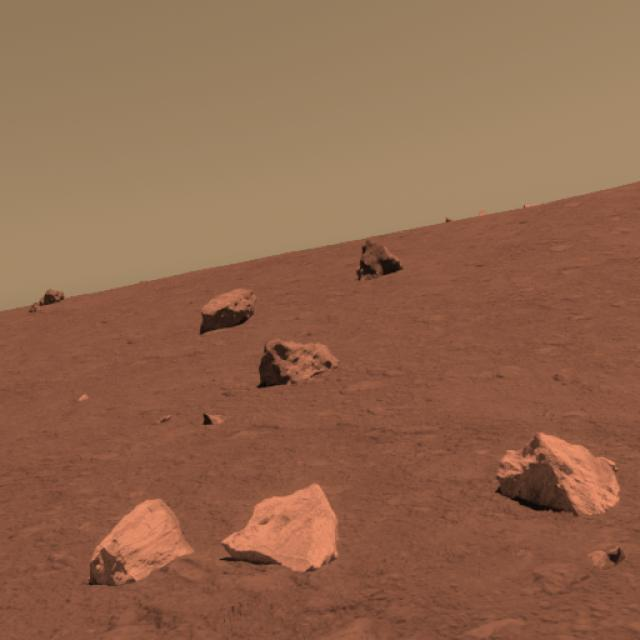rock: (486, 428, 626, 522), (219, 479, 349, 579), (85, 493, 193, 590), (259, 336, 338, 390), (196, 286, 258, 330), (352, 236, 404, 285)
